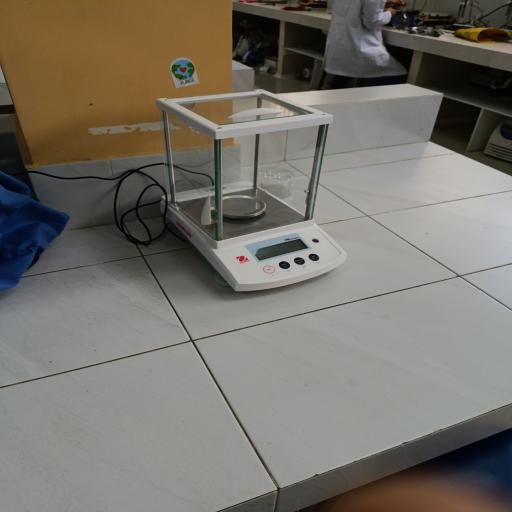Balanza_Analitica_Ohaus: (150, 85, 355, 304)
